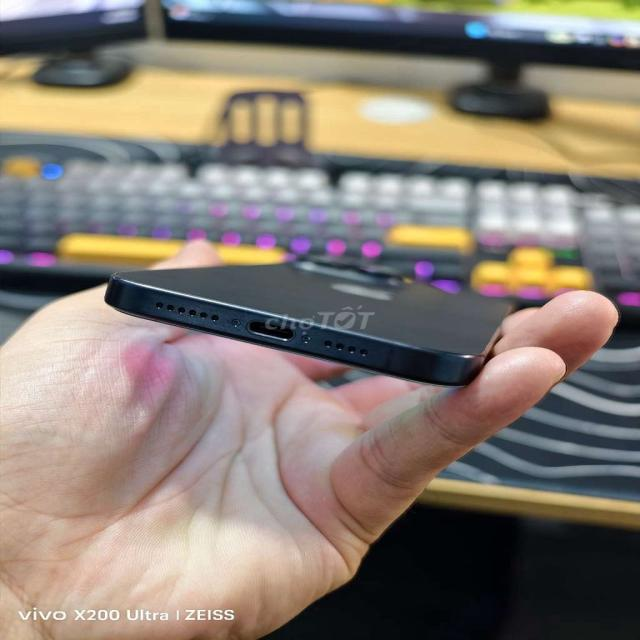gen_15: (77, 238, 521, 401)
